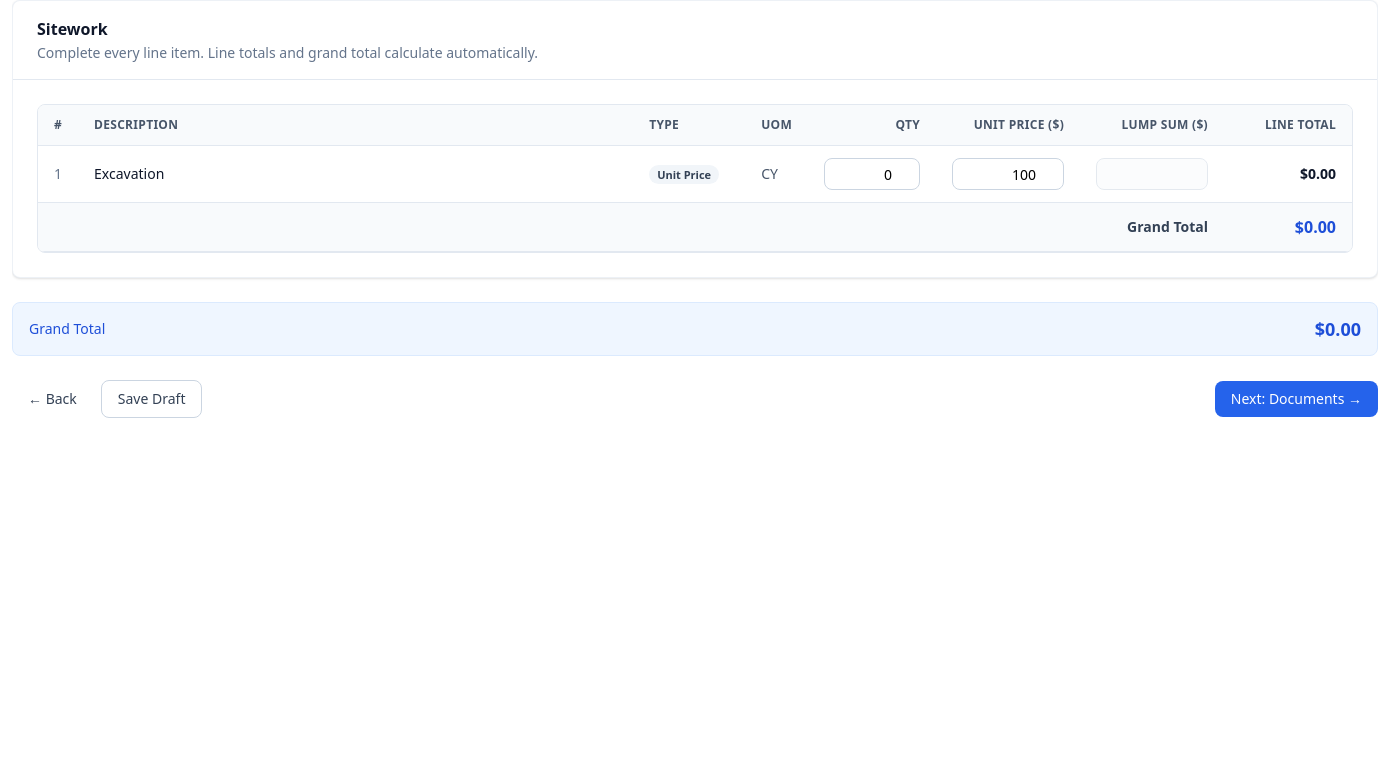
Test: Step2Pricing — quantity must be greater than zero › blocks Next and shows the error when a unit-price line has quantity 0
Click the button "Next: Documents →". click: (1296, 399)
box: x1=1215 y1=381 x2=1378 y2=417
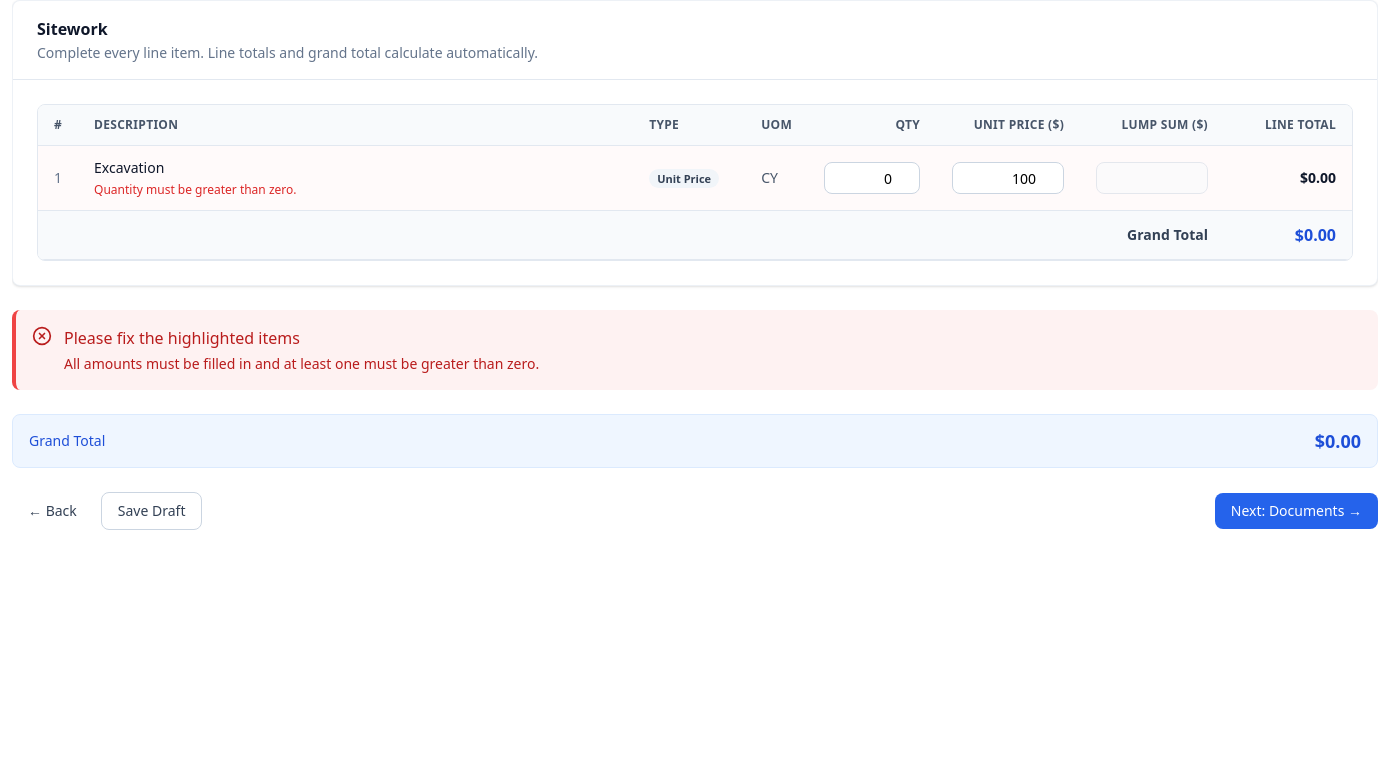
Expected: the text "Quantity must be greater than zero." is shown, x1=94 y1=181 x2=296 y2=198
